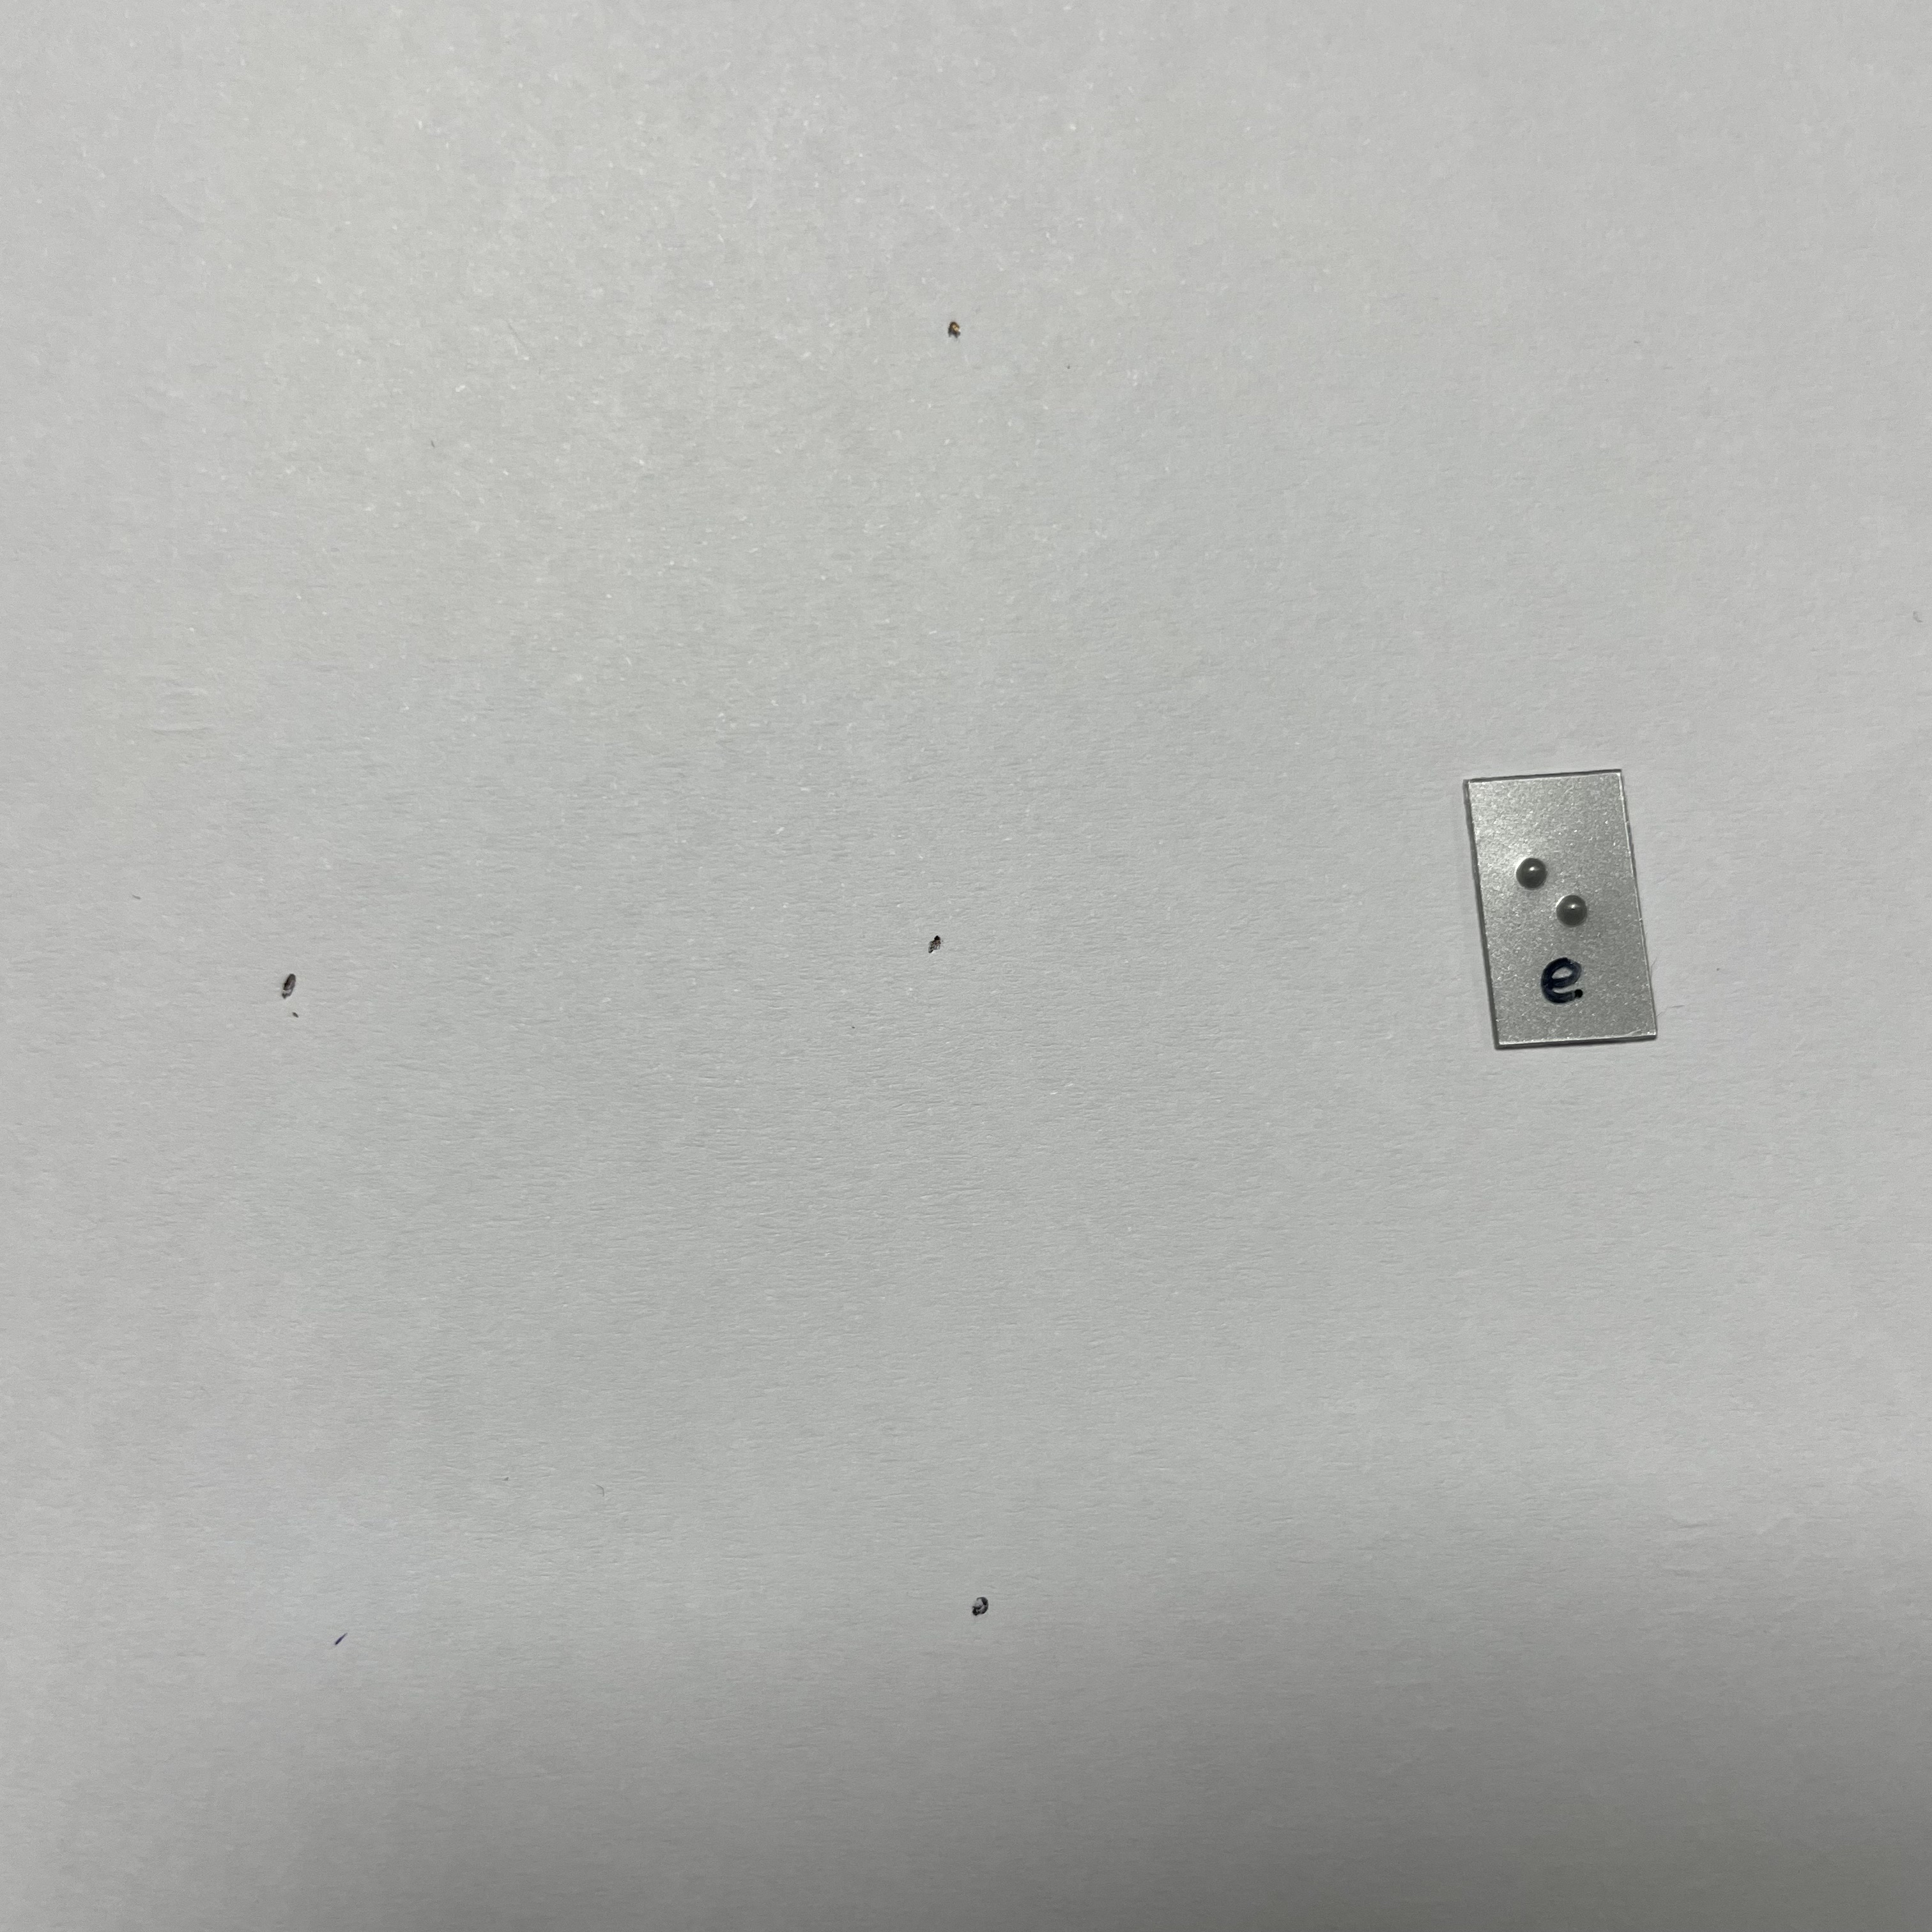e: (1508, 845, 1604, 963)
